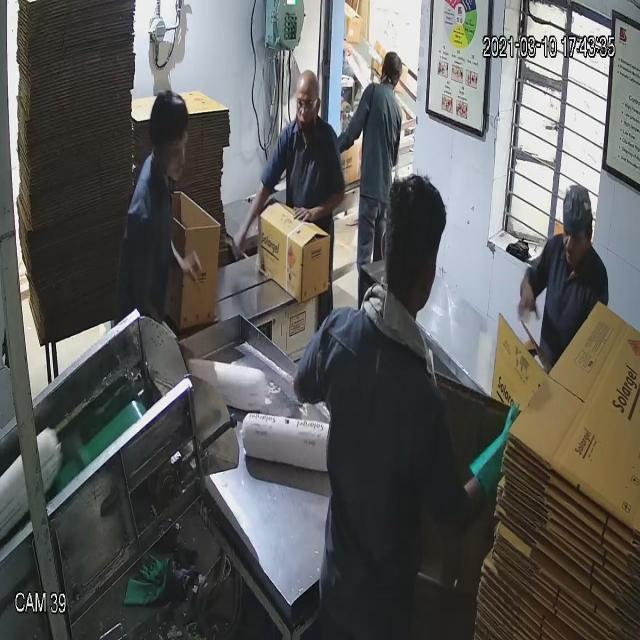No_Gloves: (32, 56, 529, 296)
